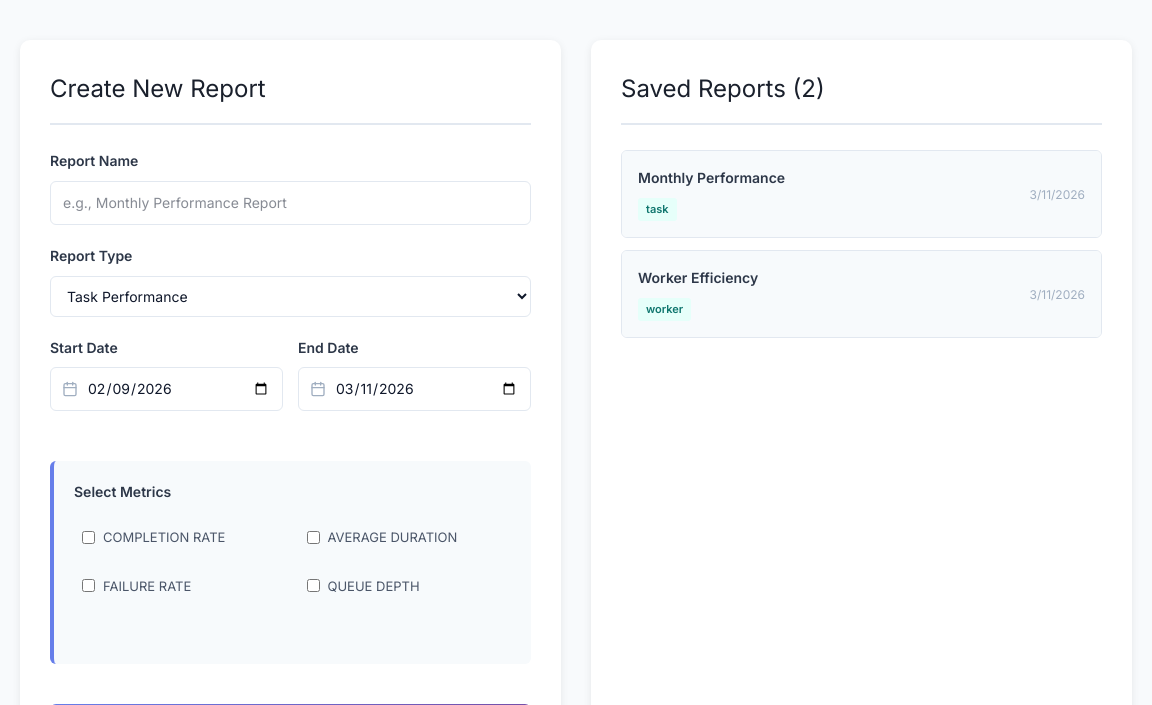
Test: ReportBuilder › should expand report details on click
The width and height of the screenshot is (1152, 705).
Expected: the heading "Monthly Performance" is shown, x1=638 y1=167 x2=785 y2=190
Click the button "Monthly Performance task 3/11/2026". click: [712, 178]
box: x1=622 y1=151 x2=1101 y2=237
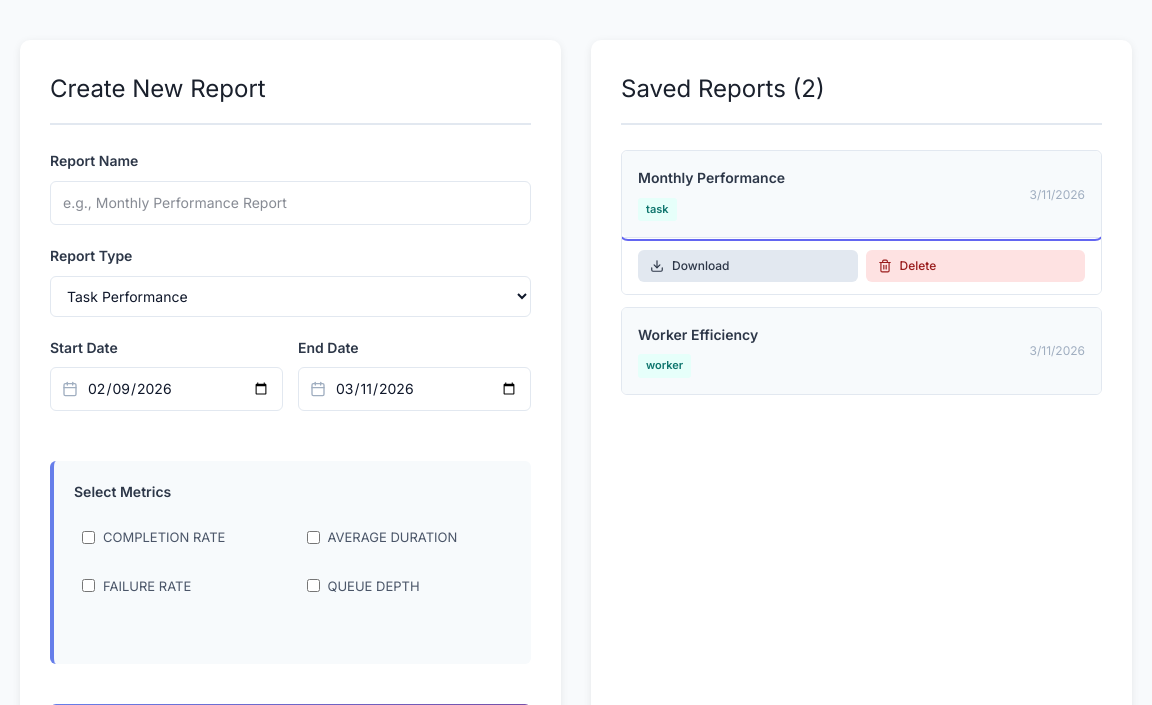
Now the button "Delete" is shown, box x1=866 y1=250 x2=1085 y2=282
